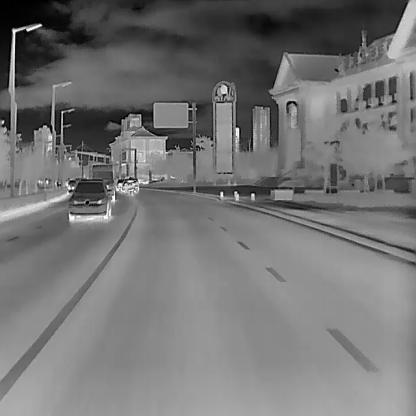car: (66, 177, 111, 224), (90, 162, 115, 202), (121, 177, 138, 193)
